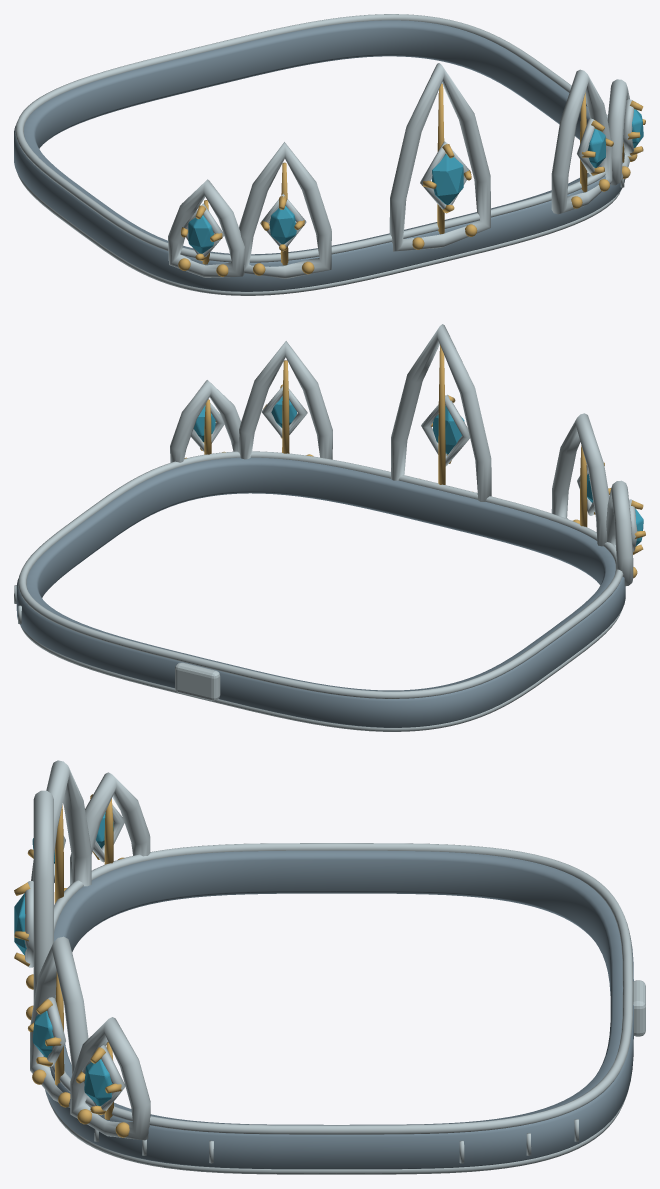
Rendered from runic-tiara.glb.
3 views of the same model, one above another, from view 1: azimuth 30°, elevation 25°; view 2: azimuth 150°, elevation 25°; view 3: azimuth 270°, elevation 25° (orthographic). The views are drawn at different scales.
Parts seen in each view (by area): view 1: Runic Tiara Forged blue steel assembly, Runic Tiara Brushed silver edges assembly, Runic Tiara Aged warm brass assembly, Runic Tiara Runic blue stone assembly; view 2: Runic Tiara Forged blue steel assembly, Runic Tiara Brushed silver edges assembly, Runic Tiara Aged warm brass assembly, Runic Tiara Runic blue stone assembly; view 3: Runic Tiara Forged blue steel assembly, Runic Tiara Brushed silver edges assembly, Runic Tiara Aged warm brass assembly, Runic Tiara Runic blue stone assembly.
Boxes of the visible parts, left/top/right/bottom form: Runic Tiara Forged blue steel assembly: left=14, top=20, right=625, bottom=291; Runic Tiara Brushed silver edges assembly: left=15, top=14, right=633, bottom=295; Runic Tiara Aged warm brass assembly: left=178, top=83, right=645, bottom=276; Runic Tiara Runic blue stone assembly: left=188, top=109, right=643, bottom=253; Runic Tiara Forged blue steel assembly: left=16, top=457, right=625, bottom=727; Runic Tiara Brushed silver edges assembly: left=14, top=324, right=637, bottom=731; Runic Tiara Aged warm brass assembly: left=184, top=345, right=645, bottom=577; Runic Tiara Runic blue stone assembly: left=193, top=396, right=643, bottom=546; Runic Tiara Forged blue steel assembly: left=45, top=850, right=633, bottom=1169; Runic Tiara Brushed silver edges assembly: left=25, top=760, right=645, bottom=1174; Runic Tiara Aged warm brass assembly: left=14, top=794, right=129, bottom=1137; Runic Tiara Runic blue stone assembly: left=14, top=812, right=113, bottom=1105.
Size of the model in its own units: 0.794 by 0.3124 by 0.7378.
